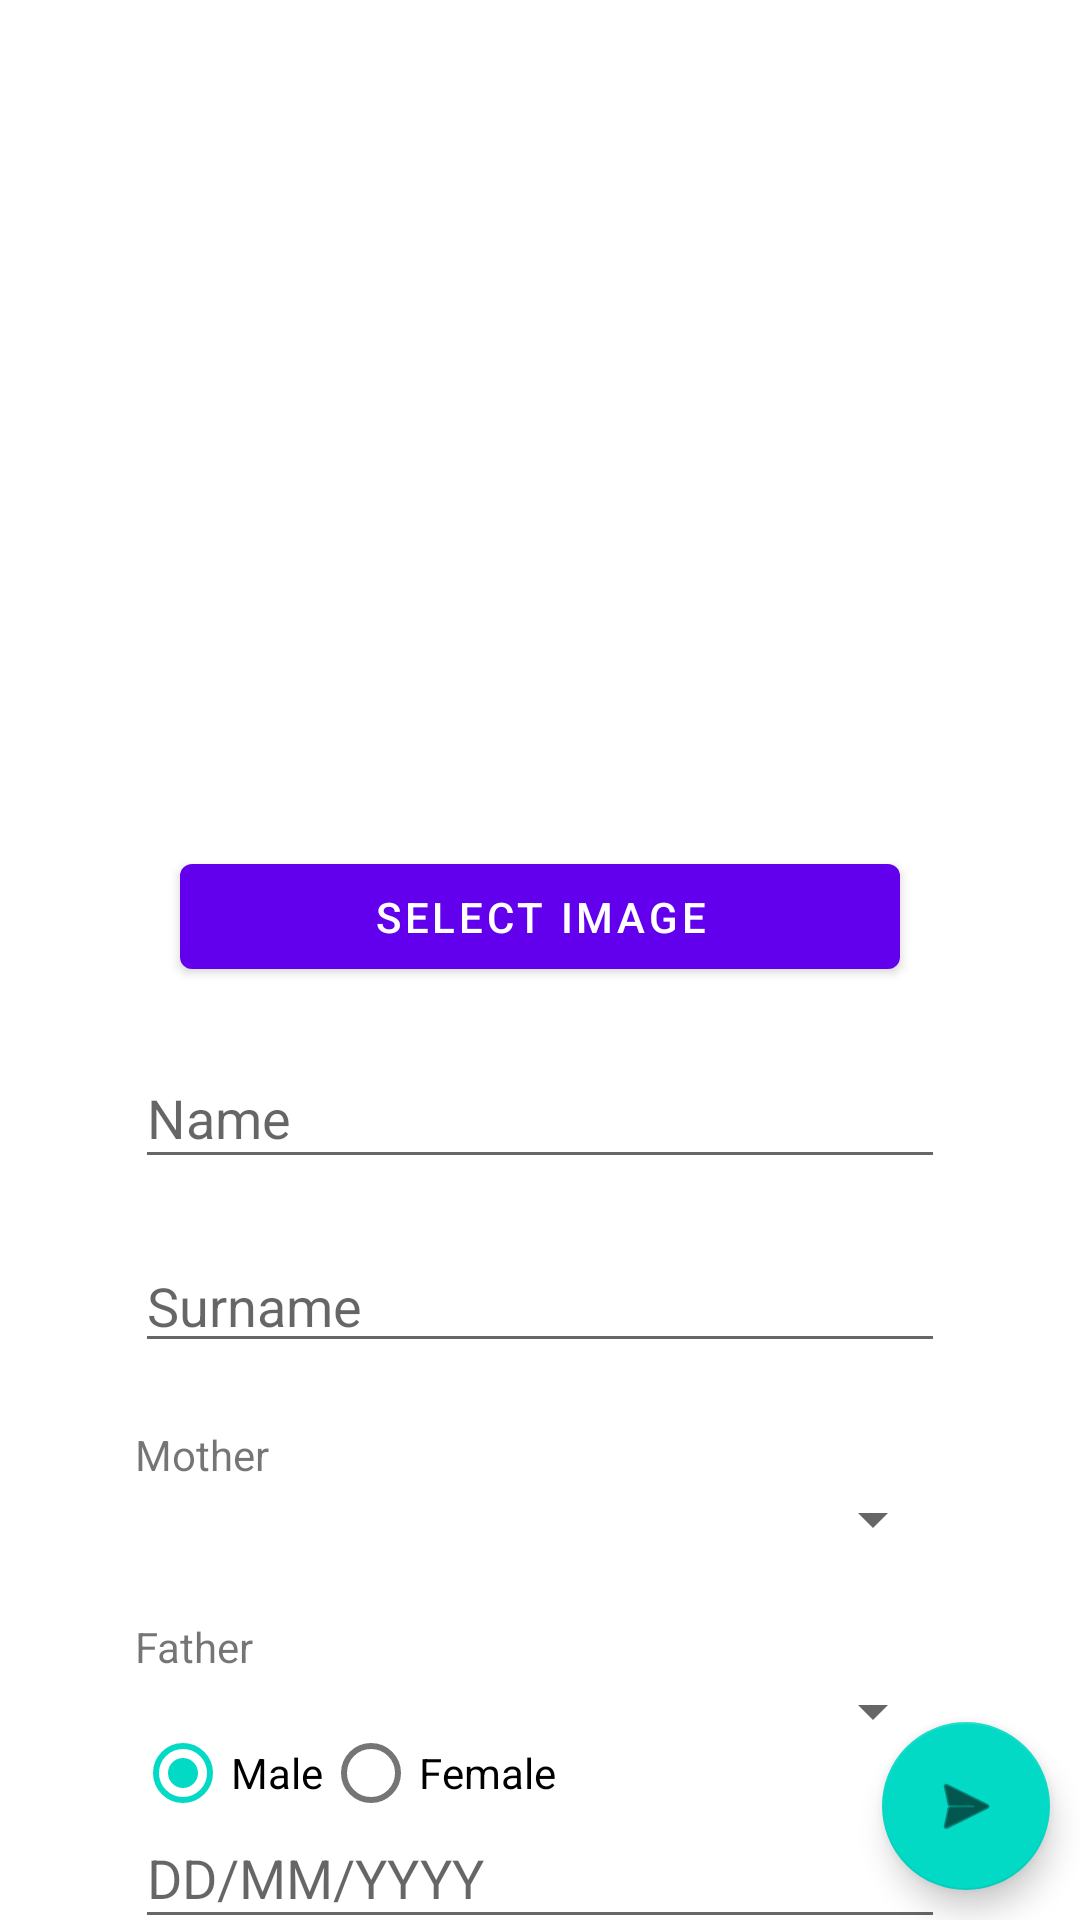

Point at icon controls on the screen. Image size 1080px×1920px, points as (x=x, y=y).
send: (x=966, y=1806)
